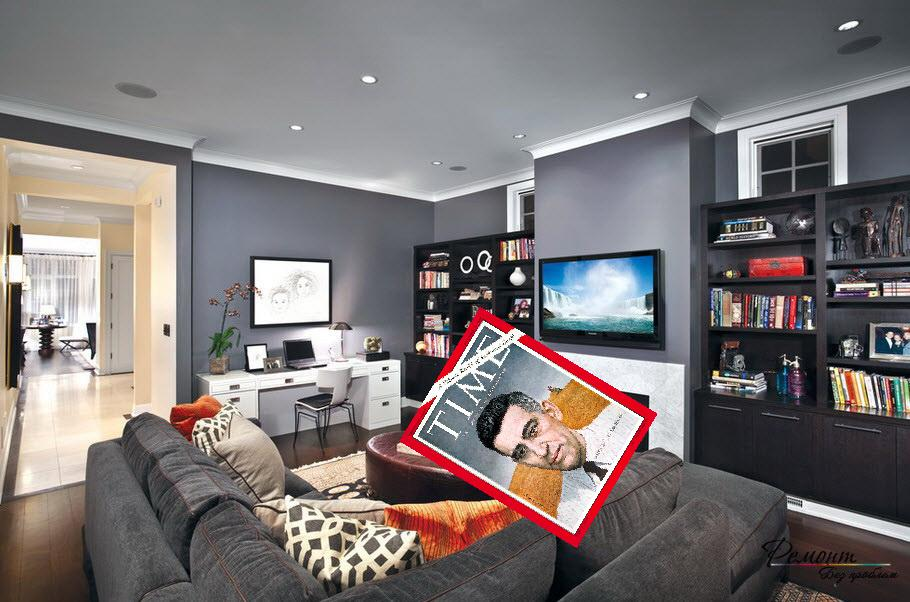times: (397, 306, 657, 545)
